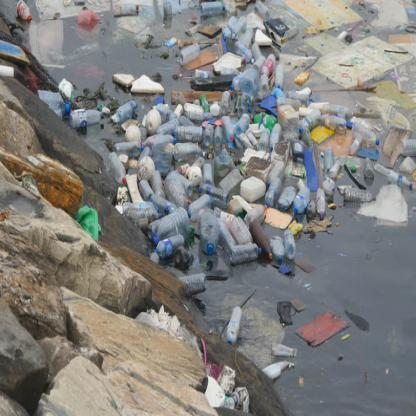foam: (131, 74, 164, 93)
plastic bottle: (150, 208, 195, 237), (198, 211, 222, 253), (166, 171, 193, 204), (103, 152, 128, 185), (156, 235, 186, 256), (122, 201, 161, 216), (230, 243, 262, 261), (113, 98, 138, 121), (340, 188, 375, 204), (228, 306, 243, 343), (179, 42, 204, 64), (197, 184, 228, 201), (277, 185, 299, 207), (113, 139, 144, 154), (72, 109, 104, 123), (271, 236, 287, 263), (181, 275, 207, 290), (295, 187, 310, 213), (285, 231, 299, 258), (321, 147, 334, 174), (197, 2, 225, 14), (263, 54, 277, 78), (139, 179, 154, 199), (267, 181, 280, 204), (152, 172, 164, 196), (273, 65, 285, 89), (316, 189, 326, 217), (183, 101, 206, 113), (363, 156, 375, 178), (200, 95, 210, 112)
